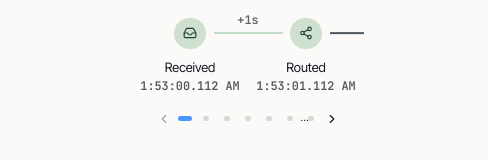
Test: LogRequestLifecycleStrip › keeps a 125-page narrow lifecycle pager bounded and clamps after widening
This screenshot has width=488, height=160.
expect the radio button named "Lifecycle events page 1 of 125" is shown: met, box [174,108,196,129]
// When the reader selects the last page and the viewport widens to desktop
Click the radio button named "Lifecycle events page 125 of 125".
click(311, 119)  # box [300,108,322,129]
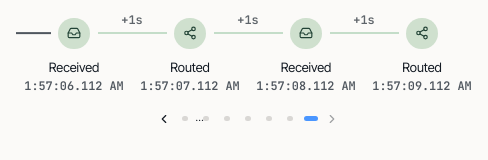
expect the radio button named "Lifecycle events page 42 of 42" is checked: met, box [300,108,322,129]
expect the button named "Later lifecycle events" is disabled: met, box [322,108,342,129]
